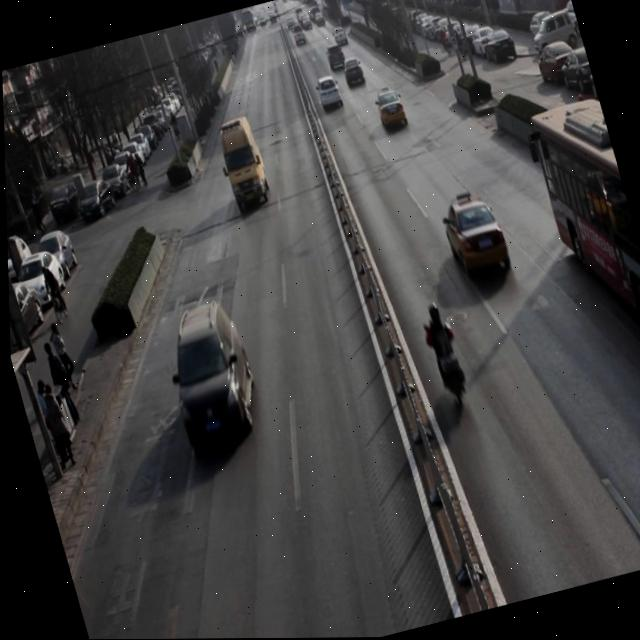car: (155, 297, 269, 461), (436, 189, 516, 289), (372, 85, 413, 138), (312, 72, 344, 116), (340, 54, 367, 91), (323, 40, 347, 74)
truck: (213, 114, 277, 219)
van: (522, 95, 640, 363)
